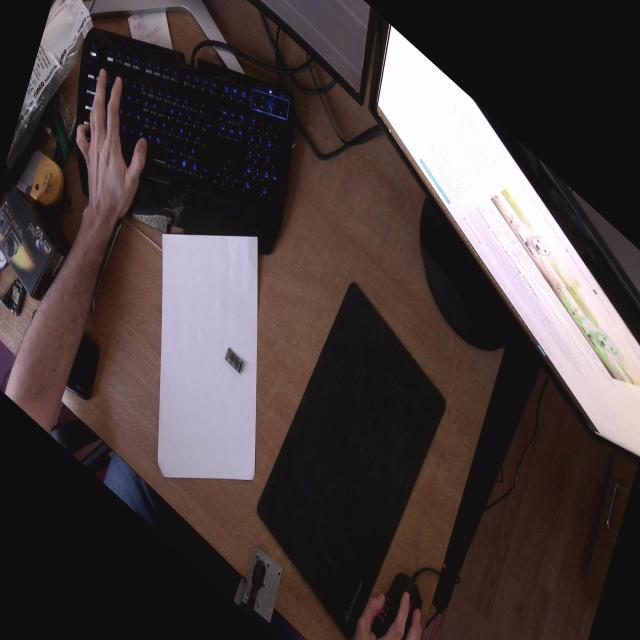keyboard-with-hands: (69, 23, 296, 262)
